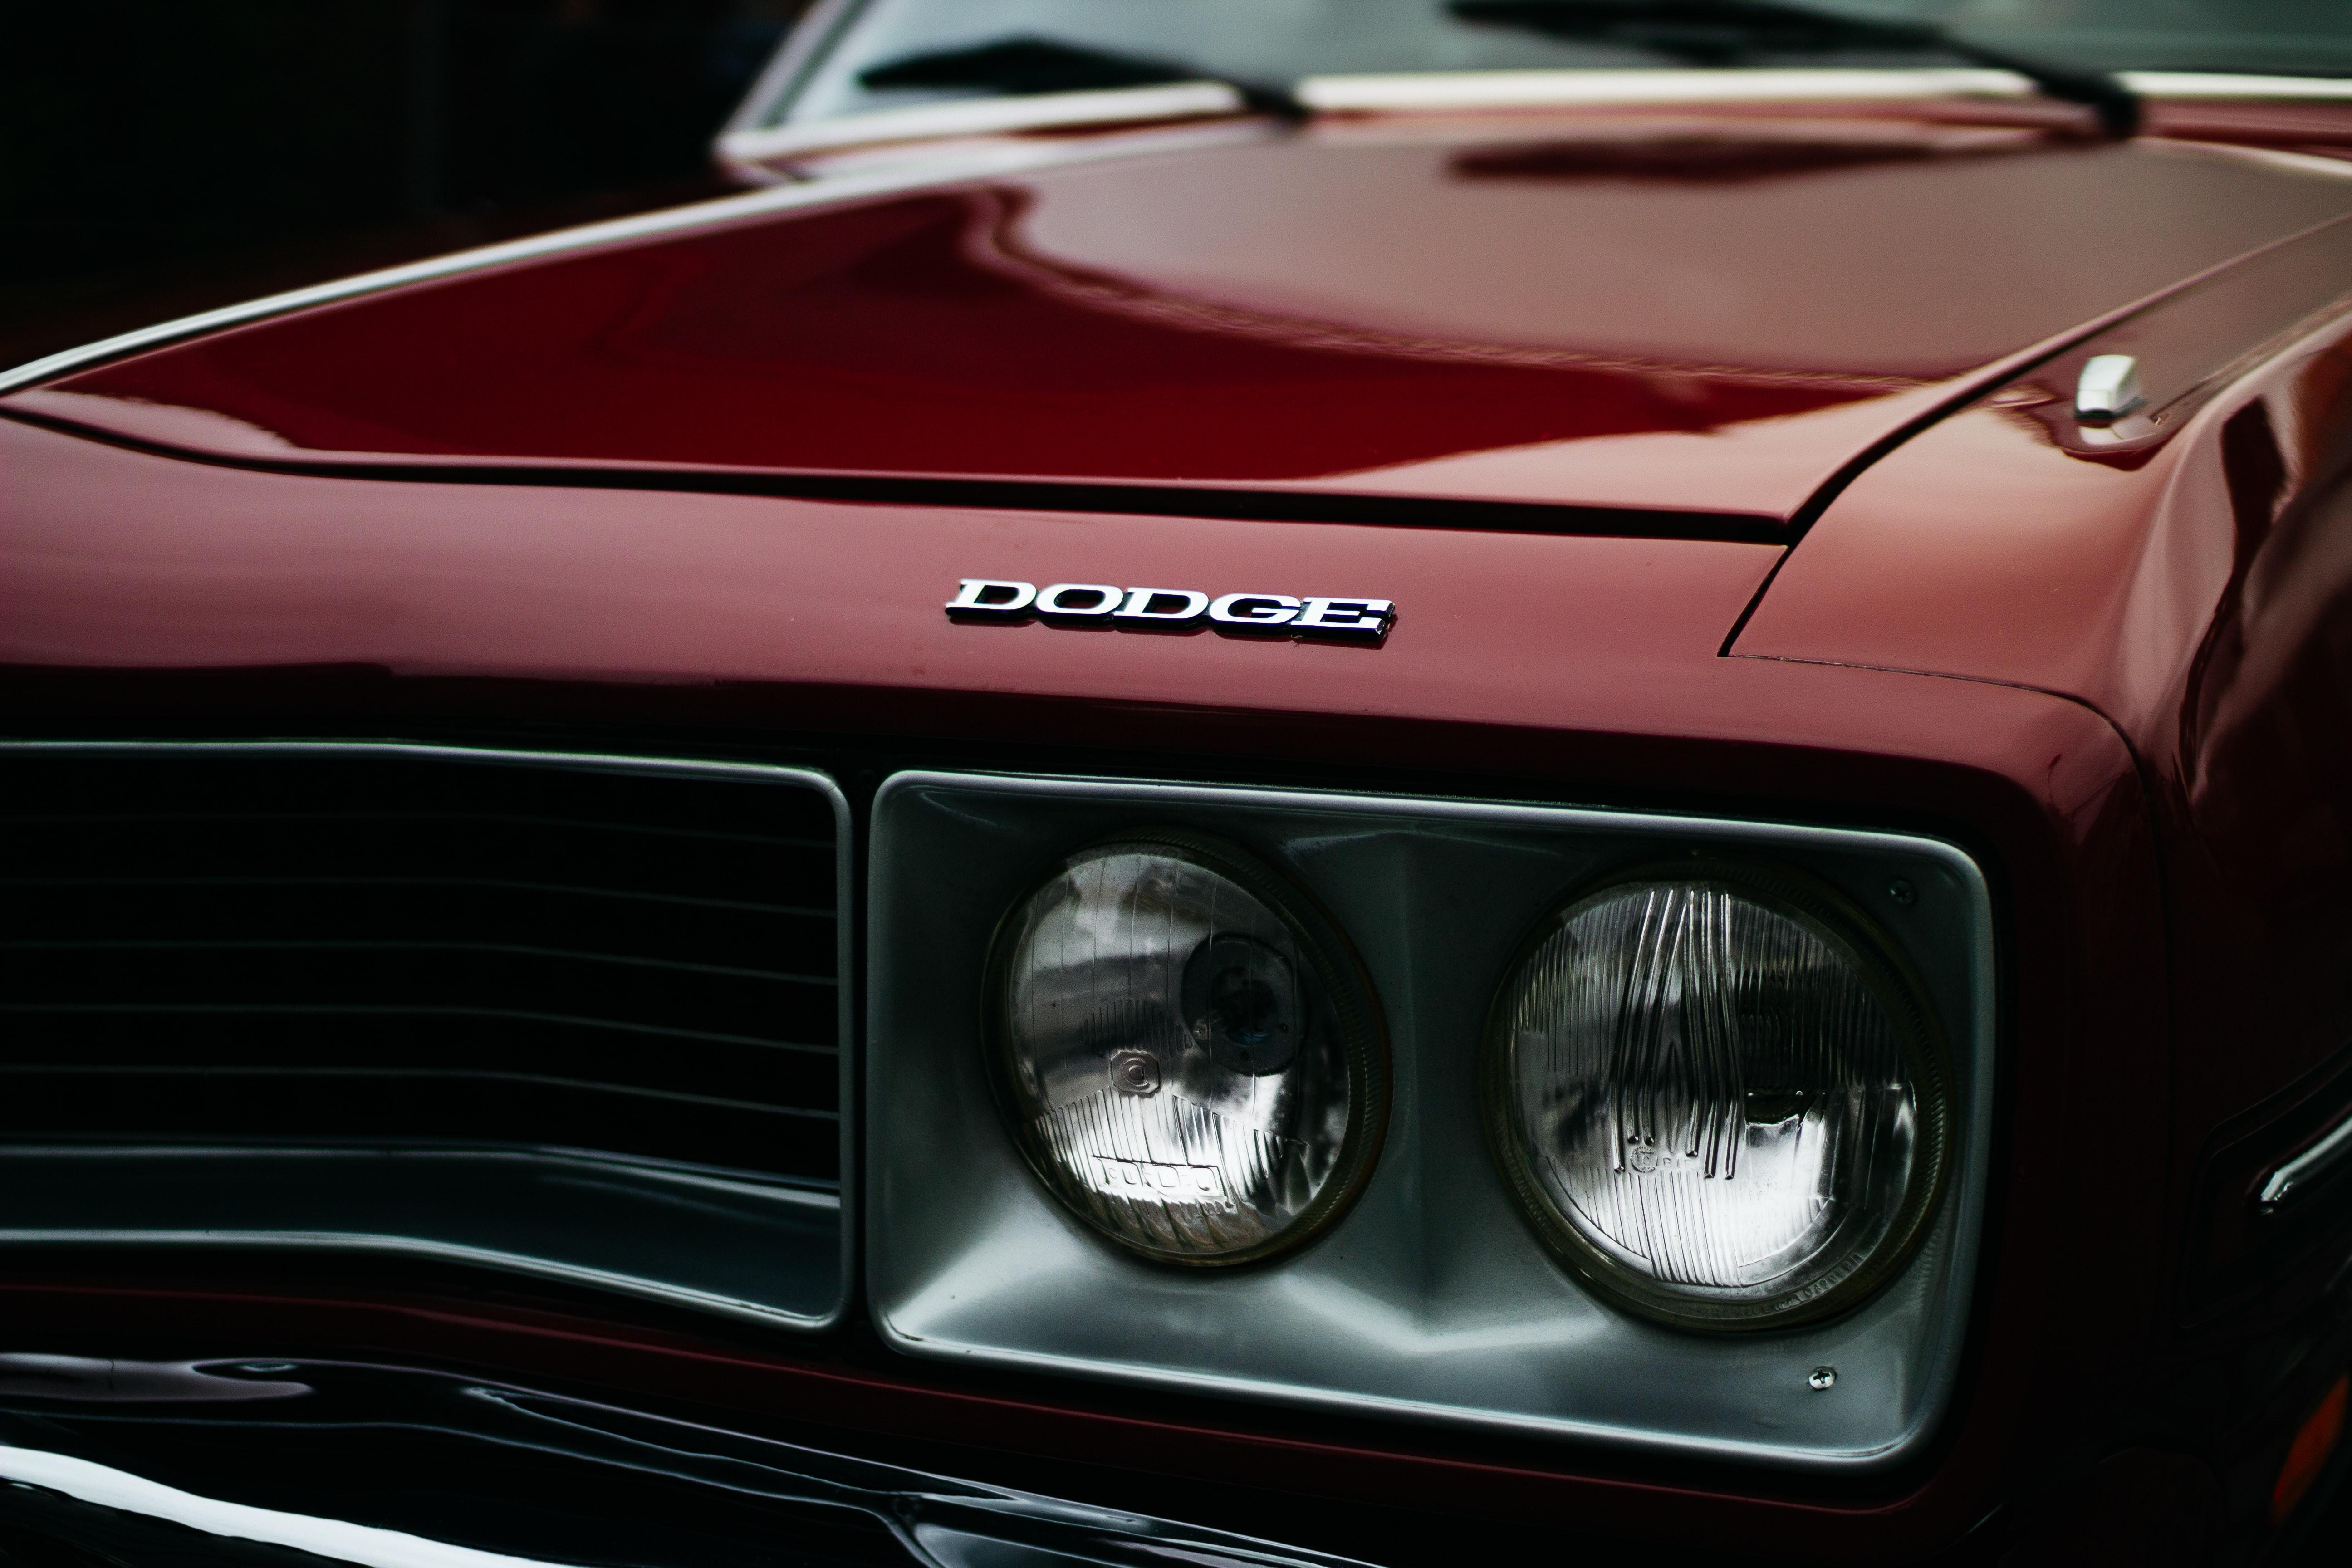dodge: (908, 523, 1451, 724)
